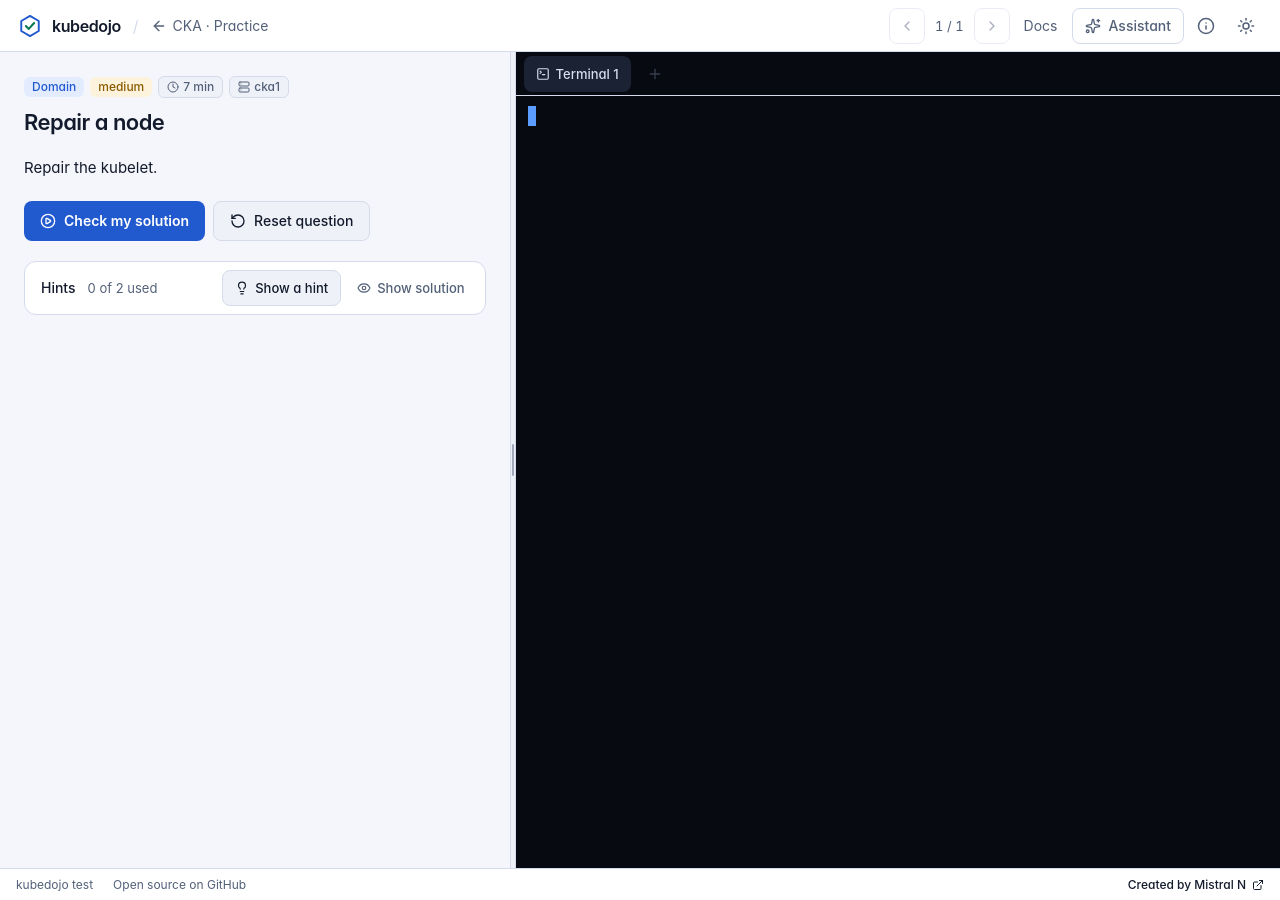
Test: the assistant on a task › shows the assistant of a hosted server that has one
The image size is (1280, 900).
Expected: the button "Check my solution" is shown, [24,201,205,241]
Step 1. Click the button "Assistant" → (1128, 26), box [1072,8,1184,44]
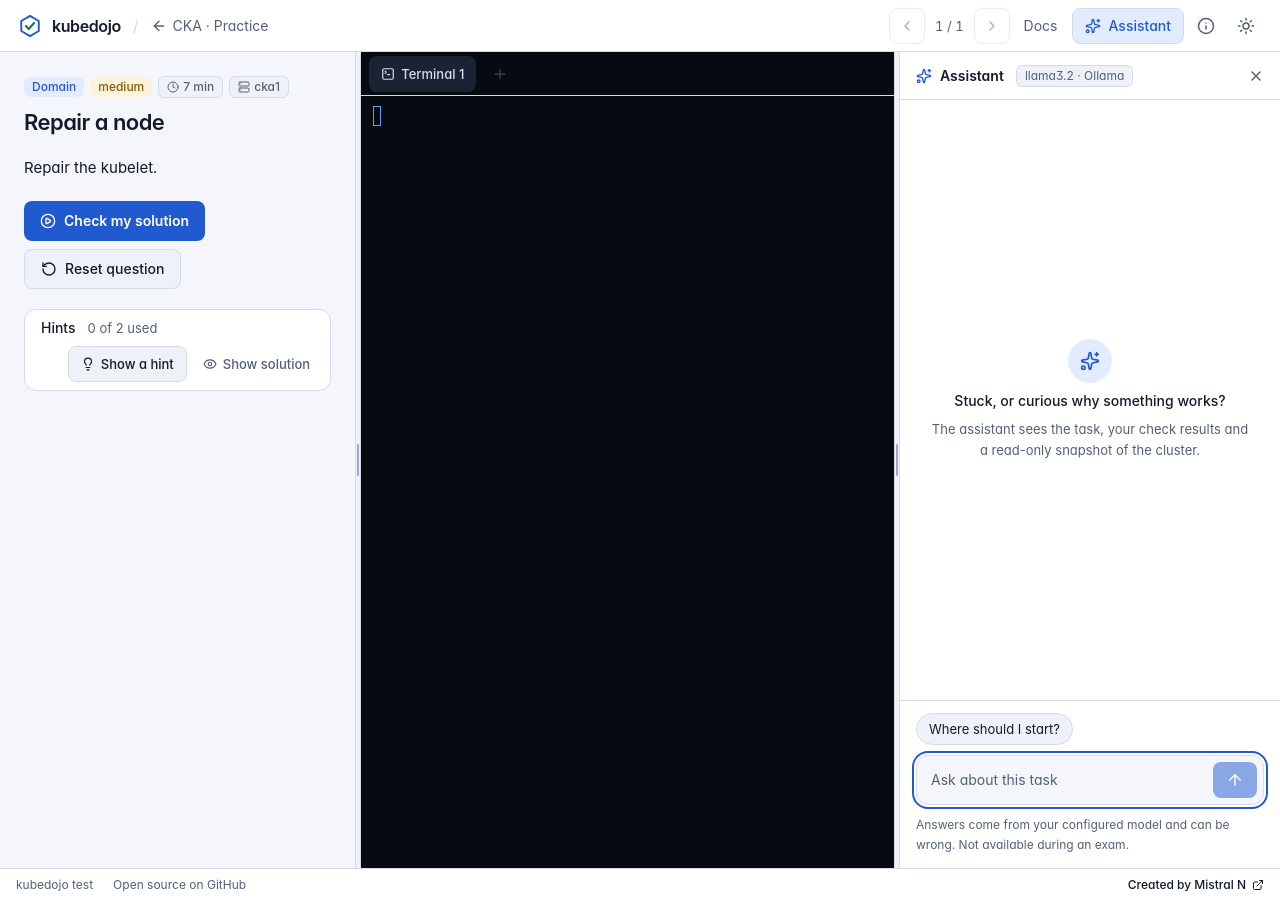
Result: the text box named "Ask the assistant" is shown at [931,762,1205,798]
